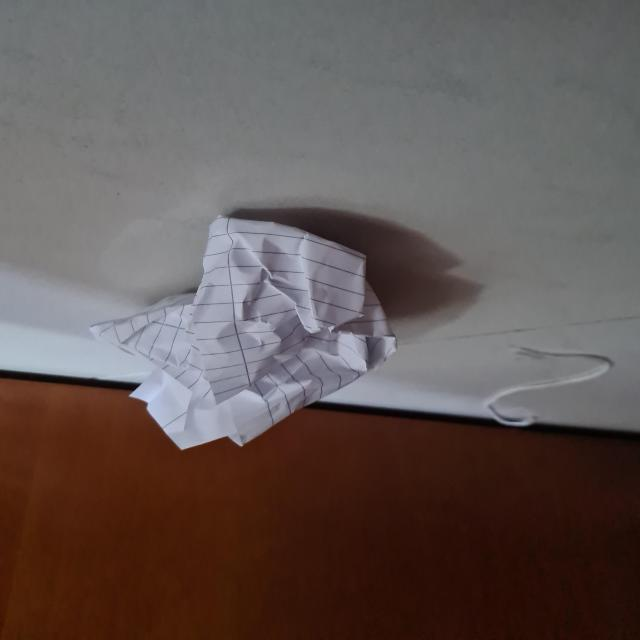kertas: (102, 211, 404, 448)
